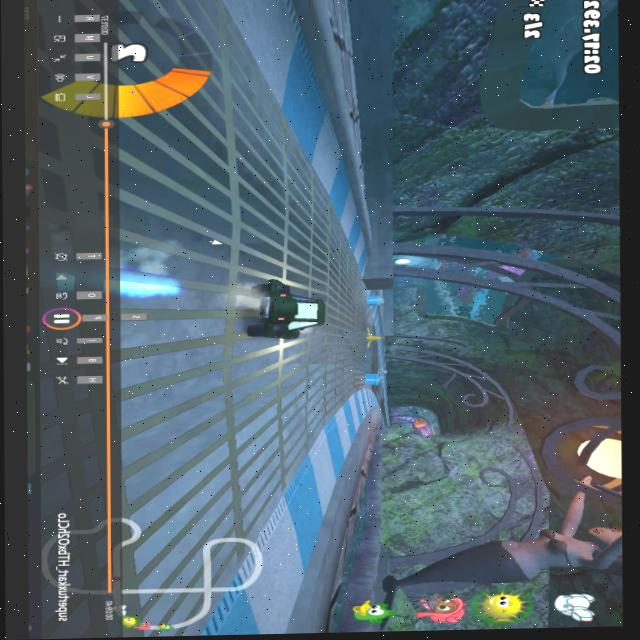bonus: (359, 370, 383, 390), (365, 294, 387, 313)
obstacle: (360, 326, 380, 350)
player_kart: (243, 277, 325, 351)
track: (101, 0, 241, 587), (236, 153, 329, 277), (244, 350, 315, 466), (234, 70, 288, 151), (330, 259, 360, 389), (304, 349, 341, 411), (240, 462, 275, 517), (330, 225, 356, 256), (376, 388, 389, 415), (362, 351, 380, 370)
